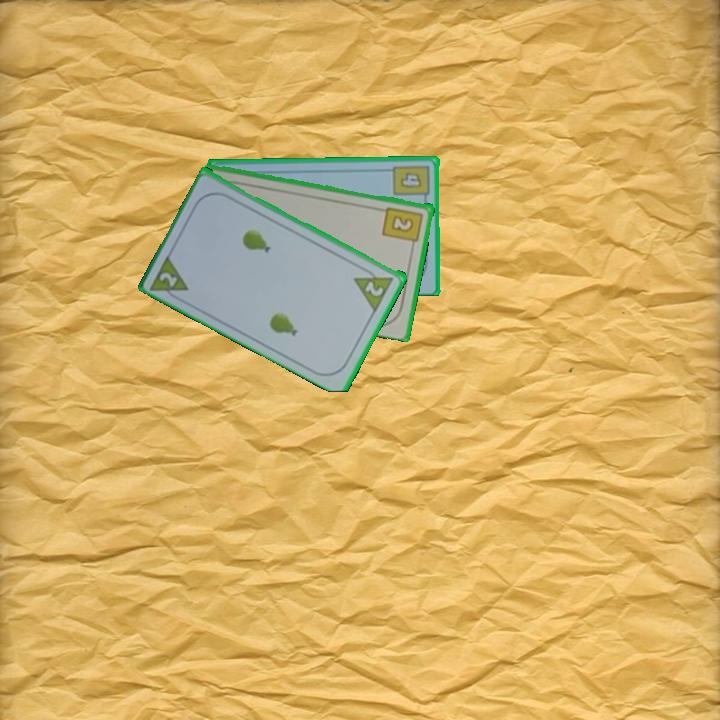2b: (379, 203, 426, 250)
2p: (351, 262, 397, 313), (156, 268, 181, 290)
4b: (391, 162, 433, 204)
